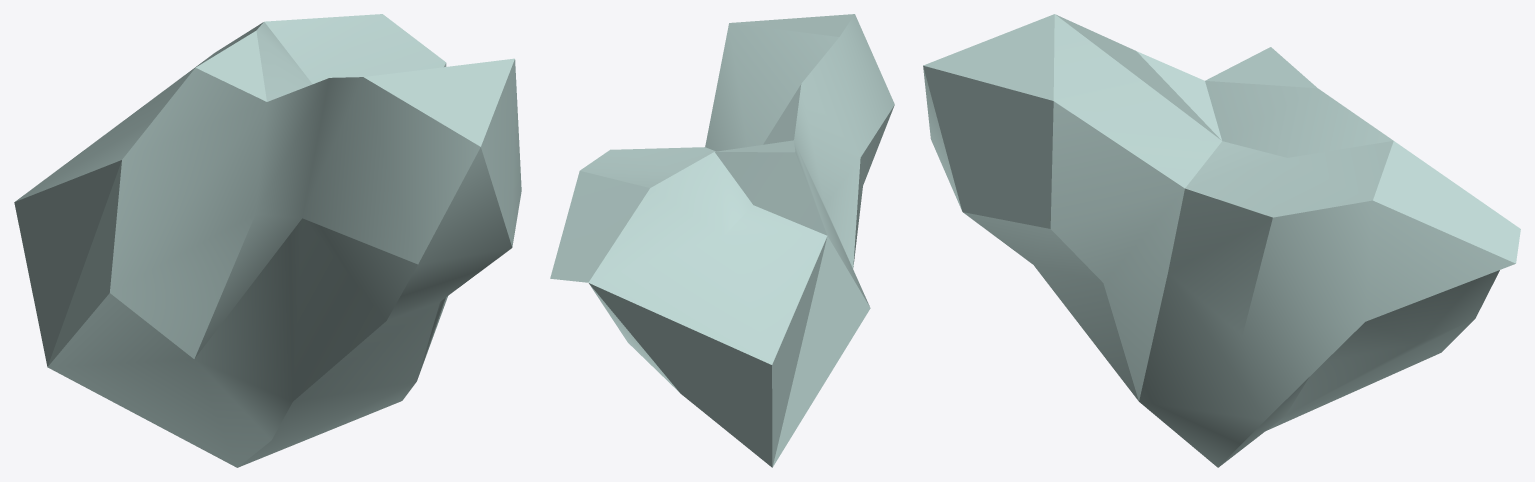
Rendered from cloud1.fbx.
The picture shows the model from 3 angles, left to right: view 1: azimuth 30°, elevation 25°; view 2: azimuth 150°, elevation 25°; view 3: azimuth 270°, elevation 25°; orthographic projection. The views are drawn at different scales.
Visible parts, largest first — view 1: cloud1; view 2: cloud1; view 3: cloud1.
Boxes of the visible parts, x1=… form: cloud1: x1=14, y1=14, x2=521, y2=467; cloud1: x1=550, y1=14, x2=894, y2=467; cloud1: x1=923, y1=14, x2=1520, y2=467.
Bounding box in the file's own units: 1.08 × 1.34 × 1.66.
